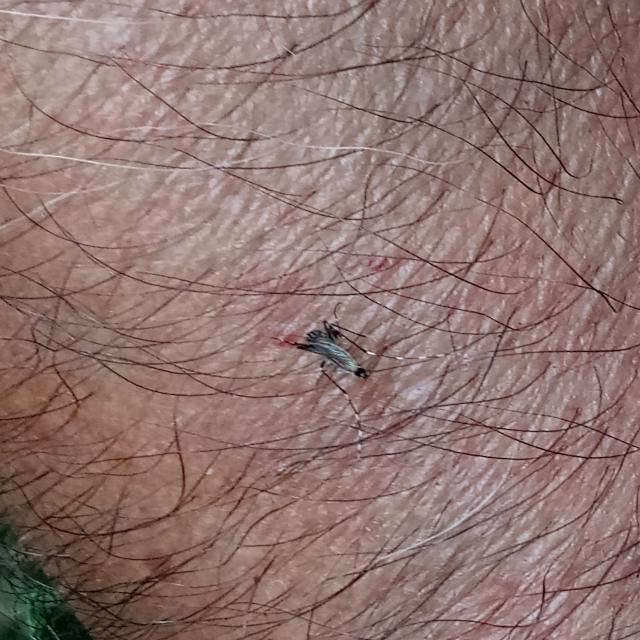albopictus: (8, 18, 621, 402)
